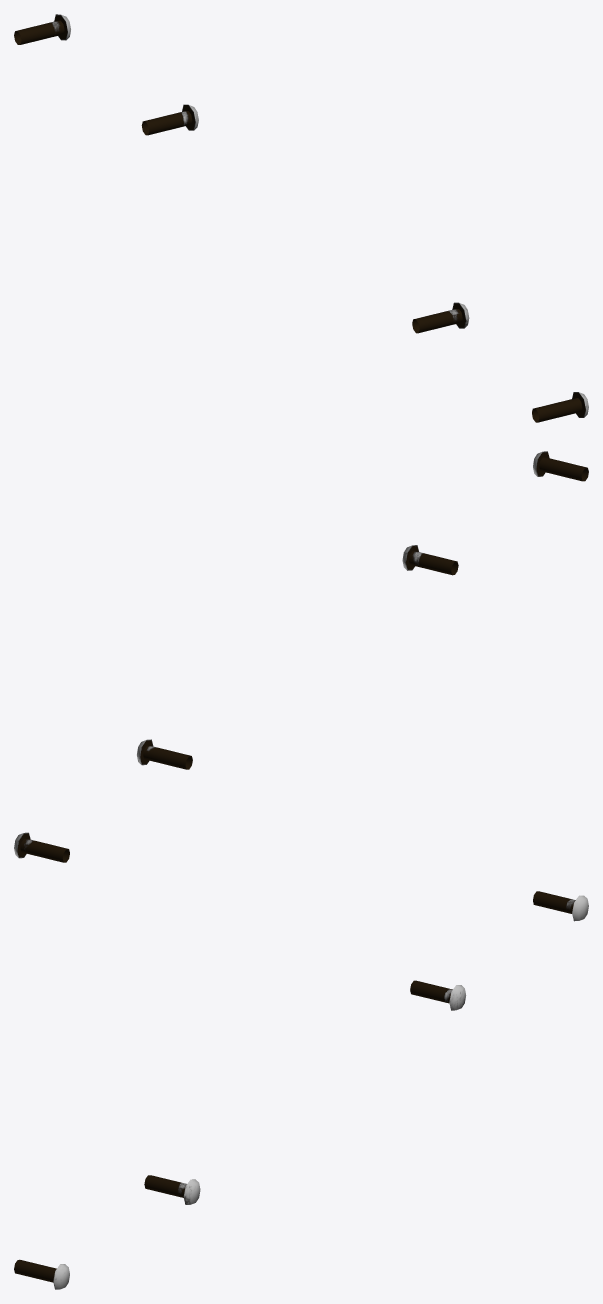
The model's file is window1Nails.glb.
3 views of the same model, one above another, from view 1: azimuth 30°, elevation 25°; view 2: azimuth 150°, elevation 25°; view 3: azimuth 330°, elevation 25° (orthographic).
Visible parts, largest first — view 1: window1Nails; view 2: window1Nails; view 3: window1Nails.
Boxes of the visible parts, <box> form: window1Nails: <box>14,14,588,422</box>; window1Nails: <box>14,451,588,862</box>; window1Nails: <box>14,891,588,1289</box>.
Size of the model in its own units: 0.048 by 0.0267 by 0.8076.
Materials: 1 (1 with a texture image).
